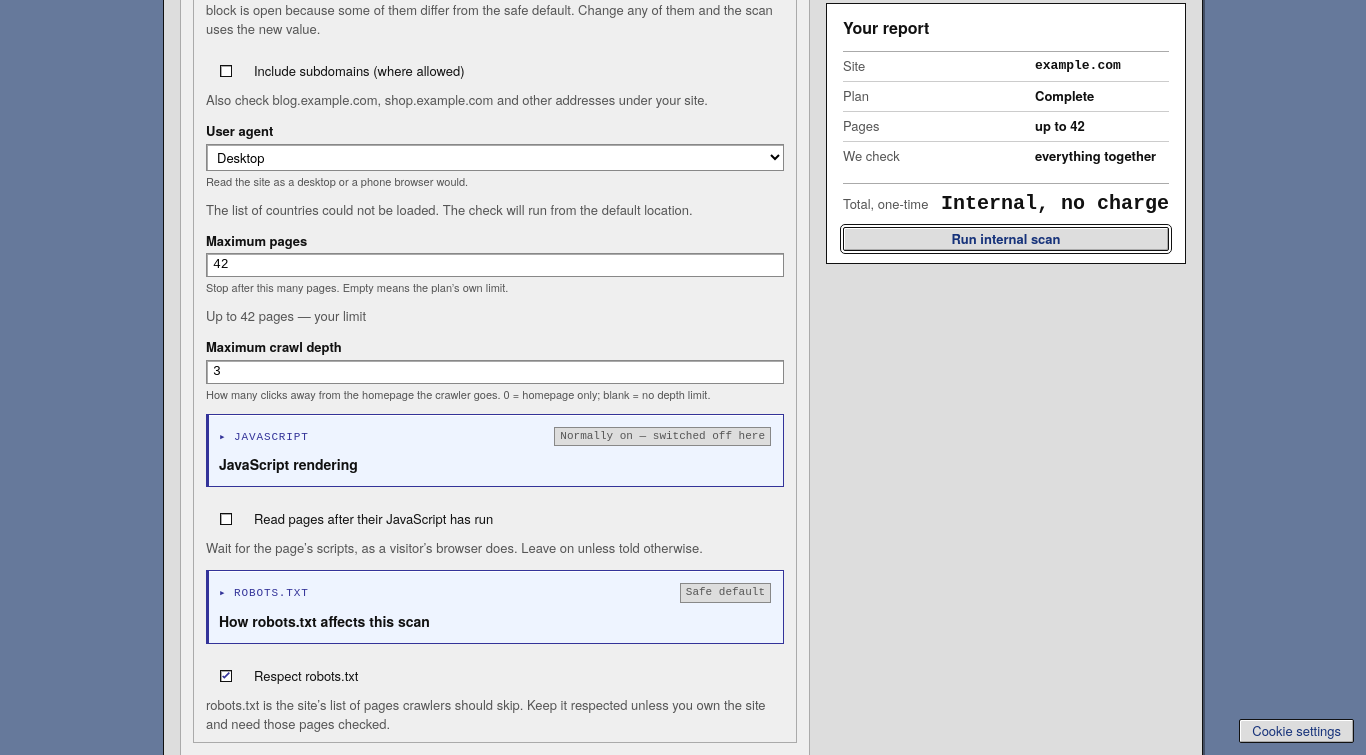
a page count the API would refuse › says the same about a crawl depth, and leaves the page count alone
(page scrolled)
expect the number field labelled "Maximum pages" holds "42": met, box [206,253,784,277]
Replace the text in the number field labelled "Maximum crawl depth" with "-1" at (495, 372), box [206,360,784,384]
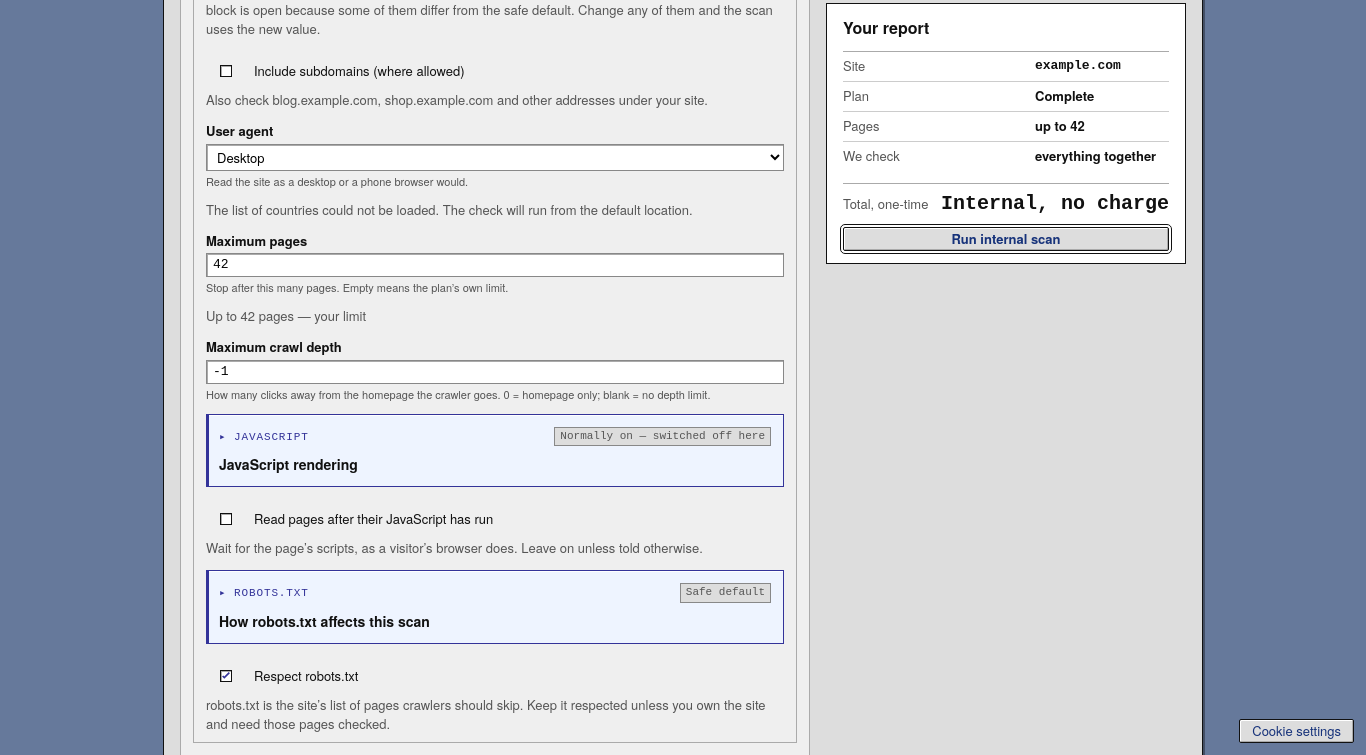
Click the button "Run internal scan" at (1006, 239), box [843,227,1169,251]
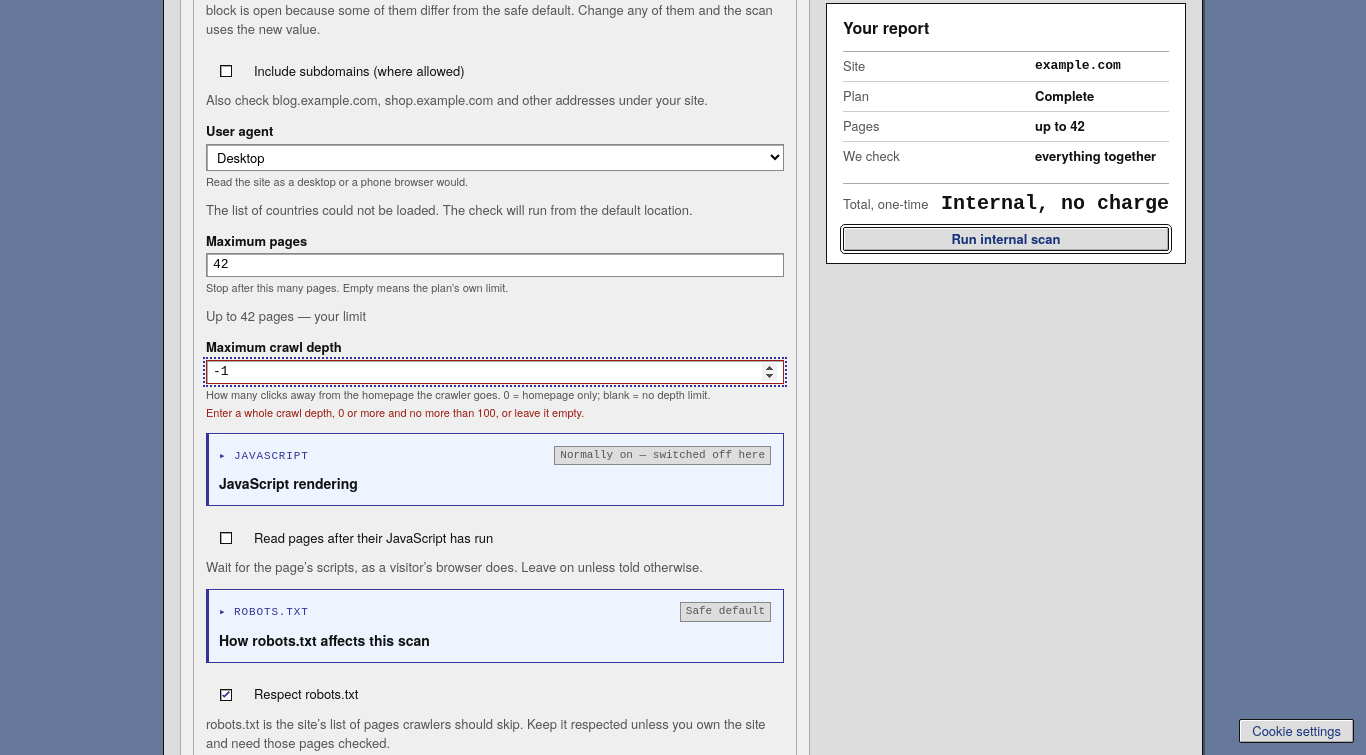
expect the text "Enter a whole crawl depth, 0 or more and no more than 100, or leave it empty." is shown: met, box [206,404,584,420]
